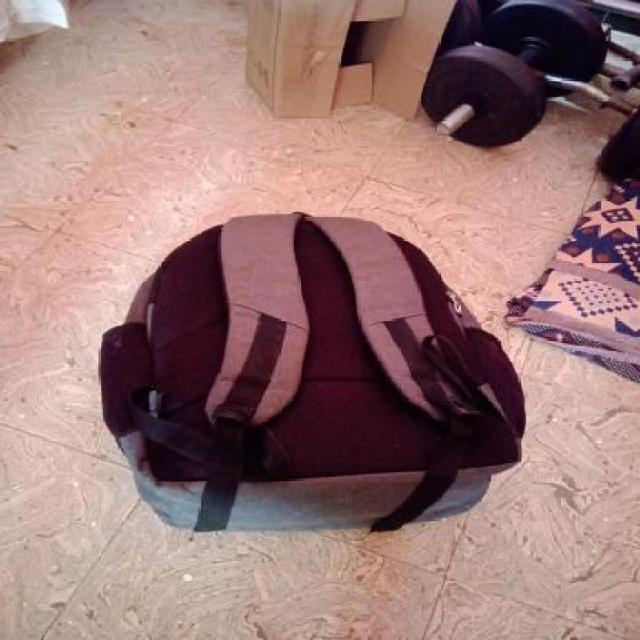backpack: (92, 207, 531, 538)
